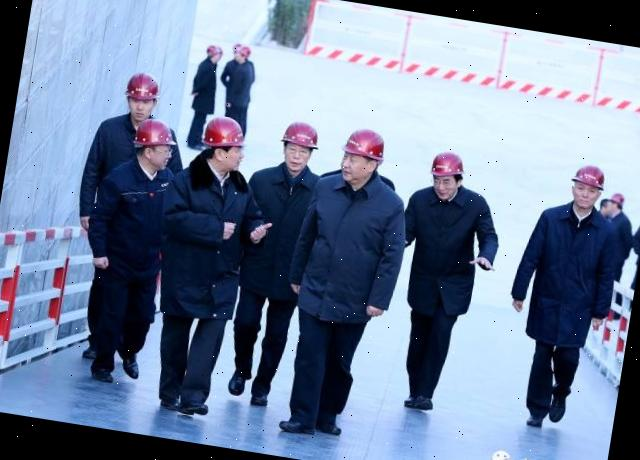helmet: (198, 114, 250, 155), (342, 126, 392, 166), (134, 118, 182, 154), (278, 117, 324, 152), (430, 147, 472, 181), (122, 71, 164, 105), (568, 161, 610, 192)
wear: (89, 159, 177, 275)
